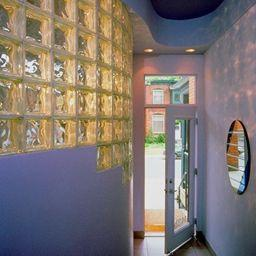Puerta: (166, 109, 196, 249)
